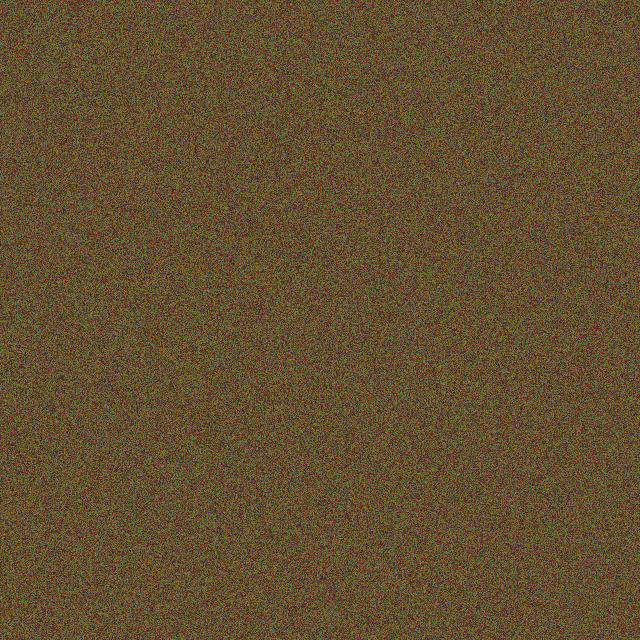unknown_man_made_object: (177, 393, 276, 445)
